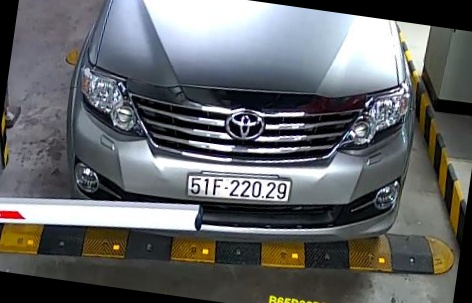plate: (185, 172, 292, 204)
